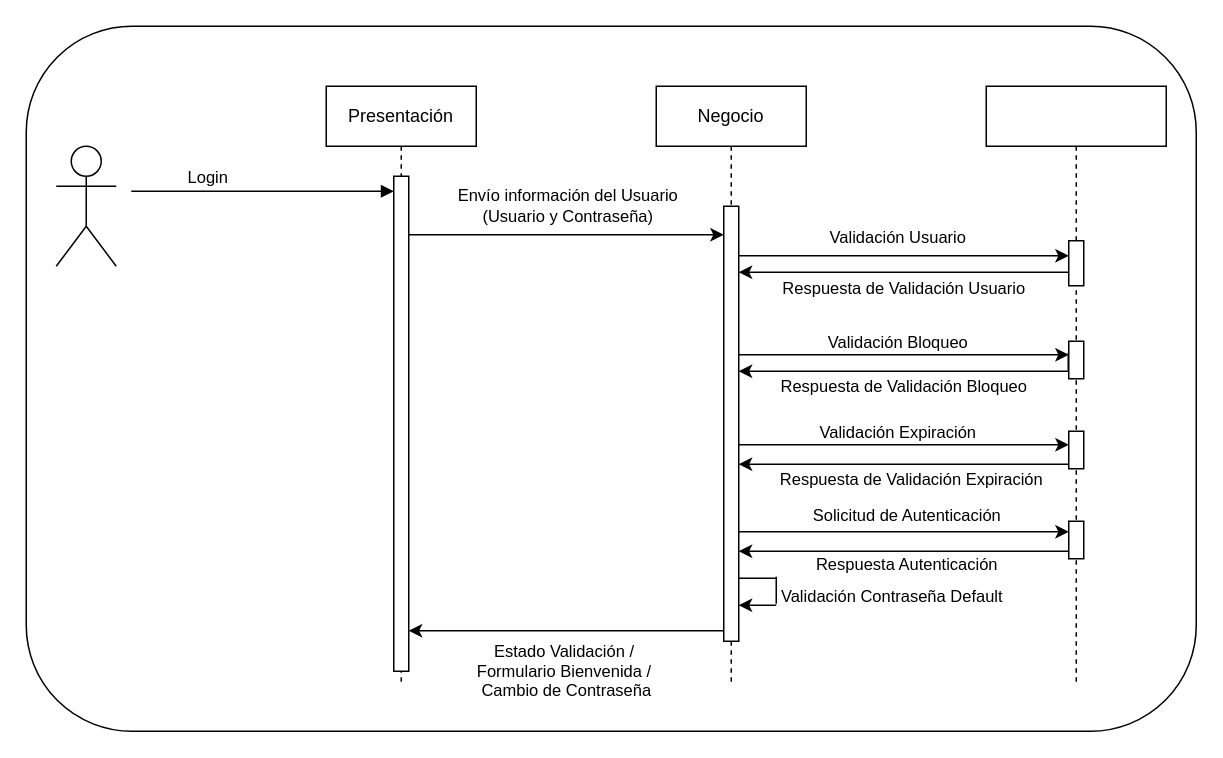
Image size: 1223x758. Some labels were removed from this diagram. Each missing label, with the centre of its shape:
Sistema/WebService (Archivo Local): point 1075,385
Usuario: point 85,205
